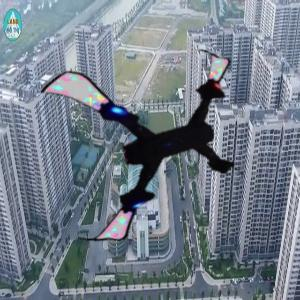drone: (47, 52, 247, 252)
